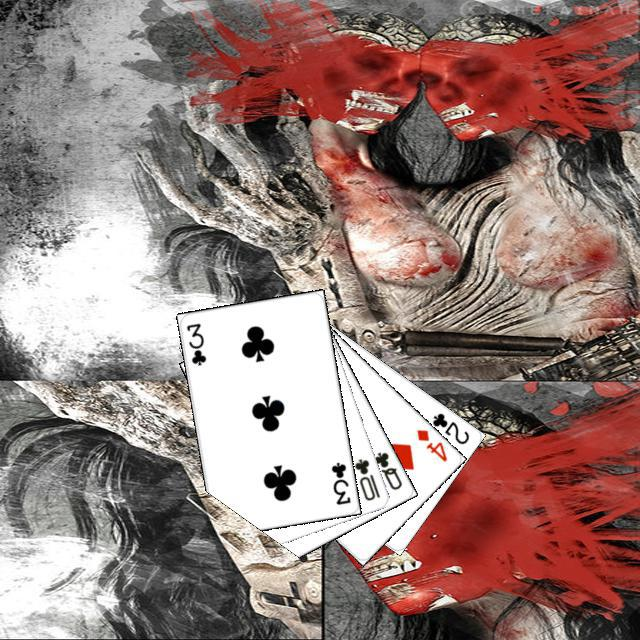10c: (350, 454, 381, 502)
2c: (427, 408, 471, 446)
3c: (181, 318, 208, 367), (326, 457, 352, 506)
4d: (412, 424, 449, 463)
Qc: (362, 447, 404, 492)
